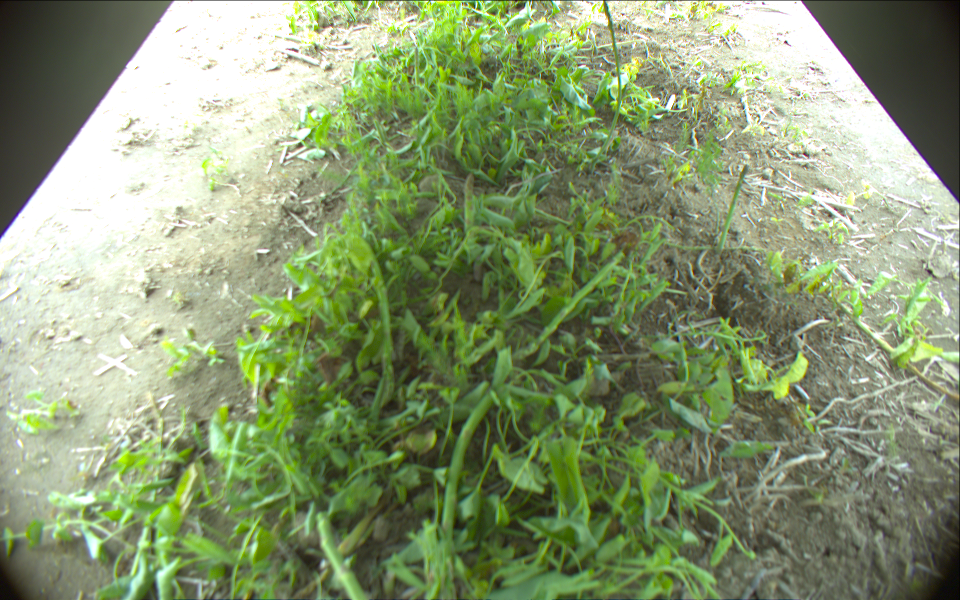aspa: (500, 249, 625, 364), (433, 389, 497, 600), (316, 510, 368, 600), (600, 1, 623, 156), (716, 164, 754, 253), (462, 173, 477, 248), (413, 47, 421, 94)
